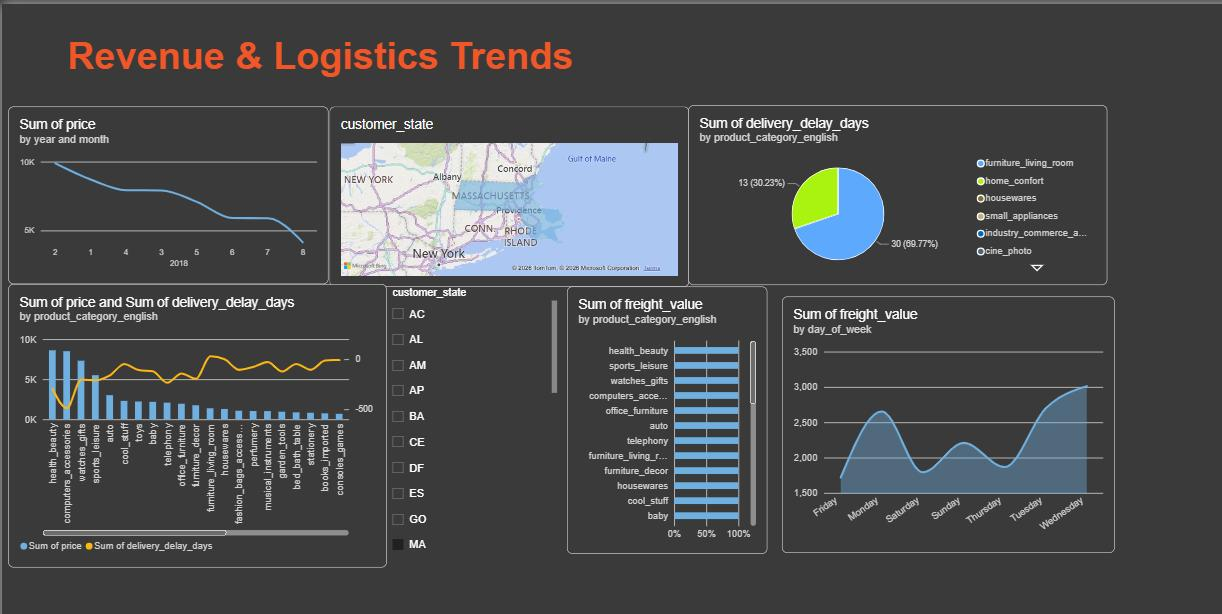

Layout of this report page (visuals, bound fields, positions):
{"tool":"powerbi","page":{"name":"Page 2","canvas":[1920,1080],"ordinal":1},"visuals":[{"type":"filledMap","fields":{"Category":["dim_customer.customer_state"]},"box":[484.5,152.1,532.5,267.5],"z":0},{"type":"slicer","fields":{"Values":["dim_customer.customer_state"]},"box":[570.4,418.3,252.1,395.8],"z":1000},{"type":"textbox","box":[10,45,925,92.5],"z":2000},{"type":"pieChart","fields":{"Category":["dim_product.product_category_english"],"Y":["Sum(fact_order_items.delivery_delay_days)"]},"box":[1016.9,149.3,621.1,266.2],"z":3000},{"type":"hundredPercentStackedBarChart","fields":{"Category":["dim_product.product_category_english"],"Y":["Sum(fact_order_items.freight_value)"]},"box":[836.6,418.3,297.2,395.8],"z":4000},{"type":"lineChart","fields":{"Category":["dim_date.year","dim_date.month"],"Y":["Sum(fact_order_items.price)"]},"box":[9.9,152.1,474.6,263.4],"z":5000},{"type":"areaChart","fields":{"Category":["dim_date.day_of_week","dim_date.month","dim_date.quarter","dim_date.year"],"Y":["Sum(fact_order_items.freight_value)"]},"box":[1154.9,433.8,493,380.3],"z":6000},{"type":"lineClusteredColumnComboChart","fields":{"Category":["dim_product.product_category_english"],"Y":["Sum(fact_order_items.price)"],"Y2":["Sum(fact_order_items.delivery_delay_days)"]},"box":[9.9,415.5,560.6,419.7],"z":7000}]}

Visuals, with their boxes on the page's 1920x1080 design canvas (x1, y1, x2, y2). These are canvas units, not pixel positions in the 1222x614 screenshot, which may show the page scaled, cropped or inside an application window:
filledMap - dim_customer.customer_state: <region>484, 152, 1017, 420</region>
slicer - dim_customer.customer_state: <region>570, 418, 822, 814</region>
textbox: <region>10, 45, 935, 138</region>
pieChart - dim_product.product_category_english x Sum(fact_order_items.delivery_delay_days): <region>1017, 149, 1638, 416</region>
hundredPercentStackedBarChart - dim_product.product_category_english x Sum(fact_order_items.freight_value): <region>837, 418, 1134, 814</region>
lineChart - dim_date.year x dim_date.month: <region>10, 152, 484, 416</region>
areaChart - dim_date.day_of_week x dim_date.month: <region>1155, 434, 1648, 814</region>
lineClusteredColumnComboChart - dim_product.product_category_english x Sum(fact_order_items.price): <region>10, 416, 570, 835</region>
